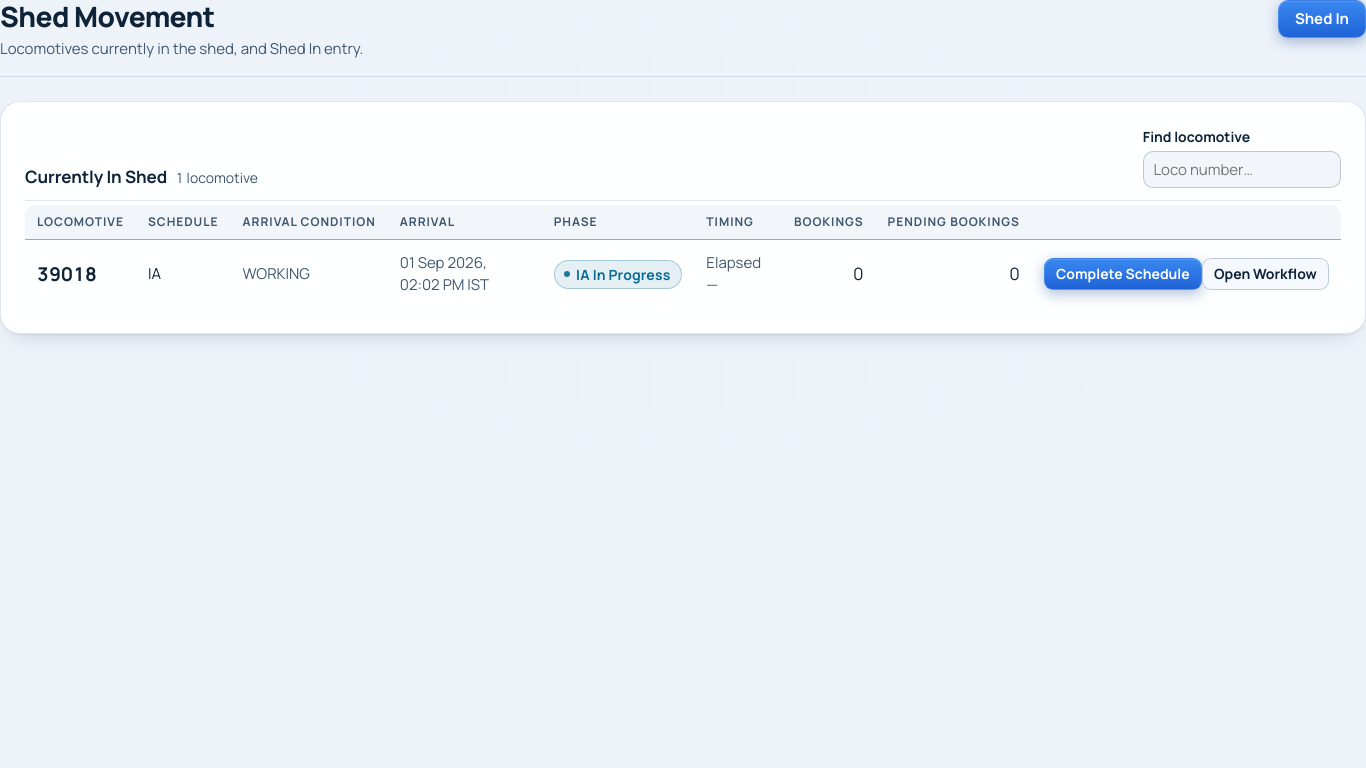
Scenario: Shed lifecycle phases › Complete Schedule on a Minor visit completes the inspection, not Ready
The width and height of the screenshot is (1366, 768).
Click the button "Complete Schedule" at (1123, 274), box [1044,258,1202,290]
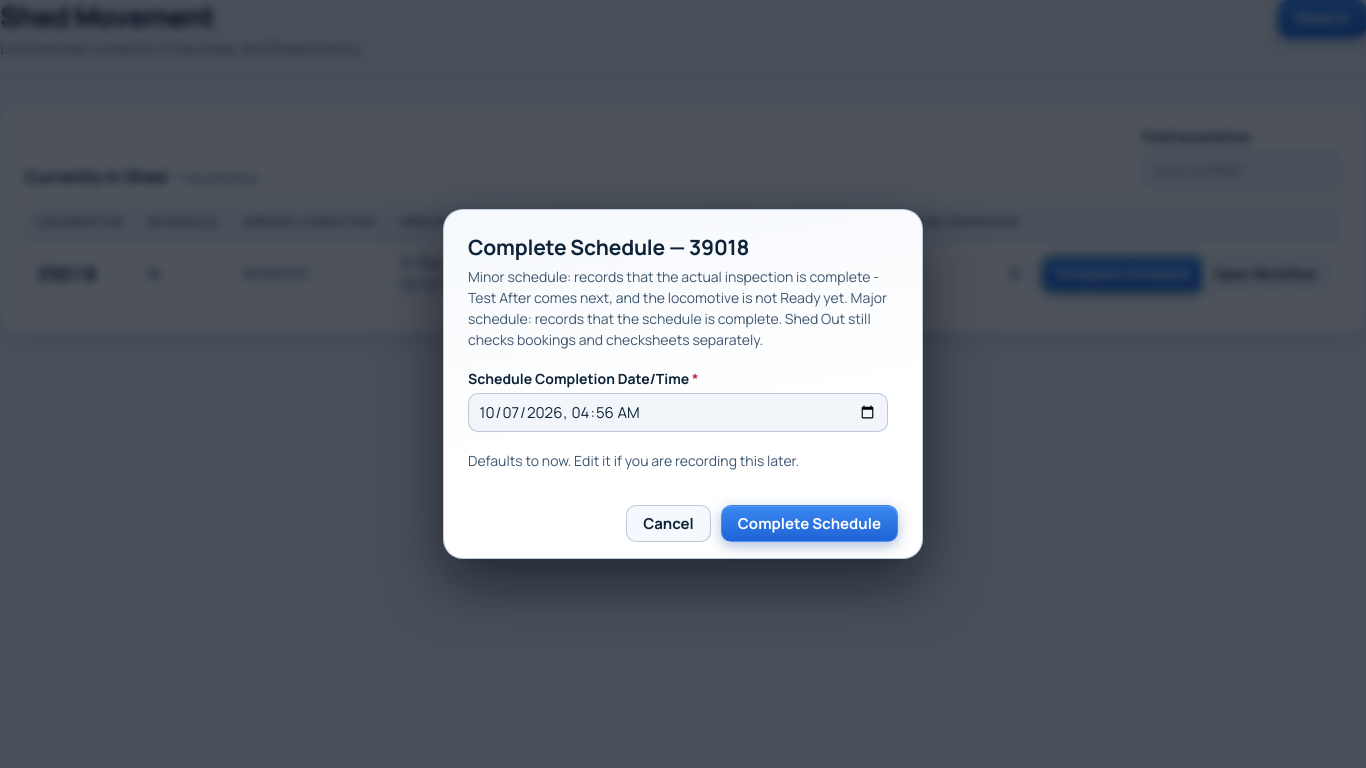
Check: the text "Test After comes next" is shown, box [468,267,887,349]
Click the button "Complete Schedule" at (809, 523), box [721,505,898,542]
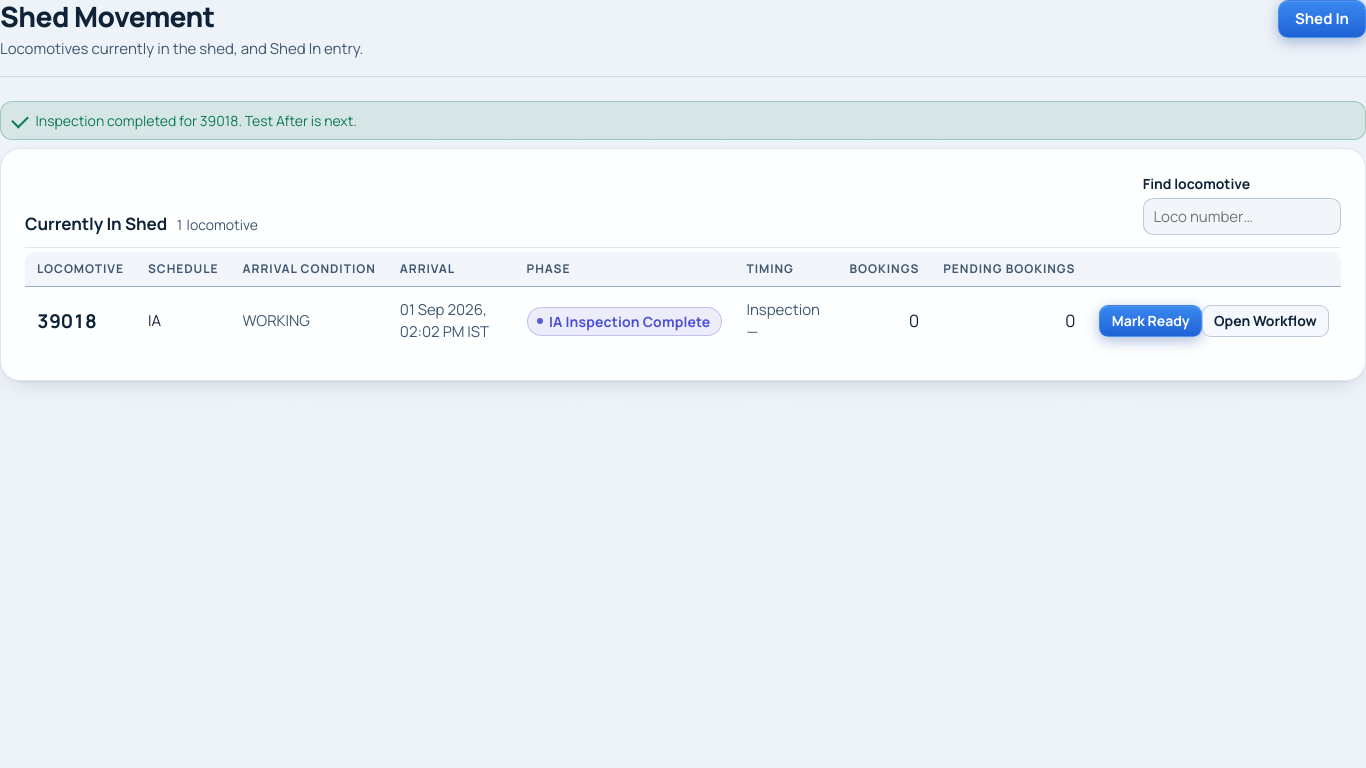
Check: the dialog is gone
Check: the text "IA Inspection Complete" is shown, box [527,306,722,336]
Check: the button "Mark Ready" is shown, box [1100,305,1202,337]
